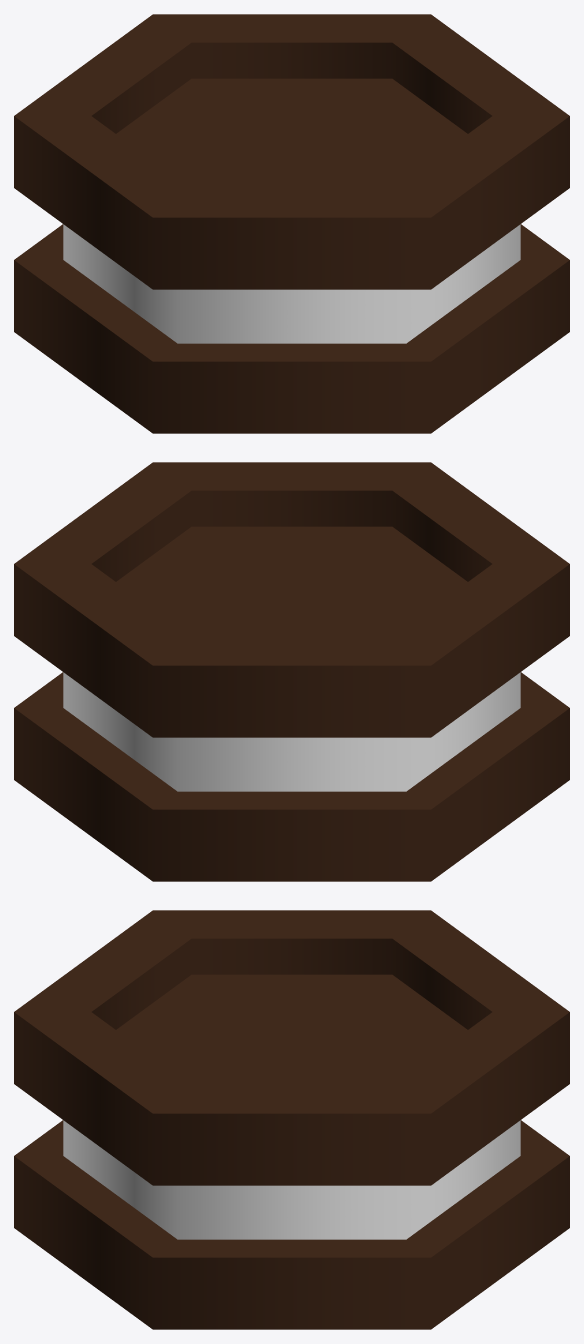
Rendered from Cookie Chocolate.glb.
3 renders of one model, top to bottom at view 1: azimuth 30°, elevation 25°; view 2: azimuth 150°, elevation 25°; view 3: azimuth 270°, elevation 25°, orthographic.
Visible parts, largest first — view 1: Cookie Chocolate; view 2: Cookie Chocolate; view 3: Cookie Chocolate.
Part boxes in pixels (x1,y1,x2,y2): Cookie Chocolate: [14, 14, 569, 433]; Cookie Chocolate: [14, 462, 569, 881]; Cookie Chocolate: [14, 910, 569, 1329].
Bounding box in the file's own units: 0.1212 × 0.06 × 0.14.
